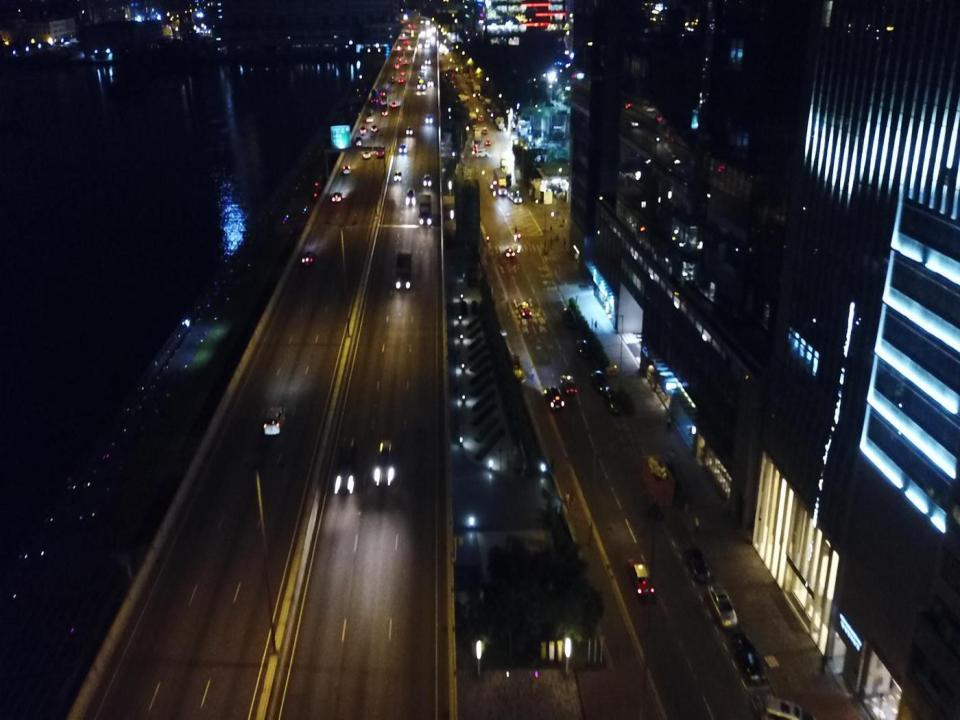bus: (500, 160, 512, 188), (507, 186, 522, 204), (380, 81, 390, 105), (417, 70, 428, 90), (366, 109, 374, 122)
car: (731, 632, 765, 683), (707, 583, 738, 628), (628, 558, 654, 598), (685, 548, 710, 583), (264, 406, 286, 438), (591, 371, 610, 395), (545, 386, 564, 410), (604, 388, 620, 414), (561, 374, 577, 394), (576, 339, 590, 358), (562, 308, 575, 328), (518, 302, 532, 317), (302, 253, 316, 266), (406, 188, 415, 206), (423, 174, 431, 187), (332, 192, 342, 202), (394, 171, 402, 181), (426, 114, 434, 124), (505, 248, 515, 256), (344, 164, 351, 174), (355, 137, 363, 145), (399, 144, 406, 152), (363, 151, 370, 159), (359, 126, 367, 133), (371, 124, 378, 132), (427, 78, 434, 86), (406, 127, 412, 135), (382, 109, 388, 116), (478, 114, 483, 122), (394, 63, 400, 69), (424, 58, 430, 64), (482, 127, 488, 133), (391, 101, 397, 106), (398, 78, 404, 83), (400, 70, 406, 75), (402, 59, 408, 64), (486, 140, 492, 144), (398, 57, 403, 61), (421, 64, 426, 68)
truck: (396, 253, 412, 291), (418, 194, 432, 226), (493, 168, 507, 196), (371, 86, 380, 102), (496, 116, 505, 130), (474, 130, 481, 144)
van: (763, 696, 816, 719), (336, 438, 358, 490), (377, 440, 392, 485), (376, 144, 386, 158), (475, 148, 488, 158)
